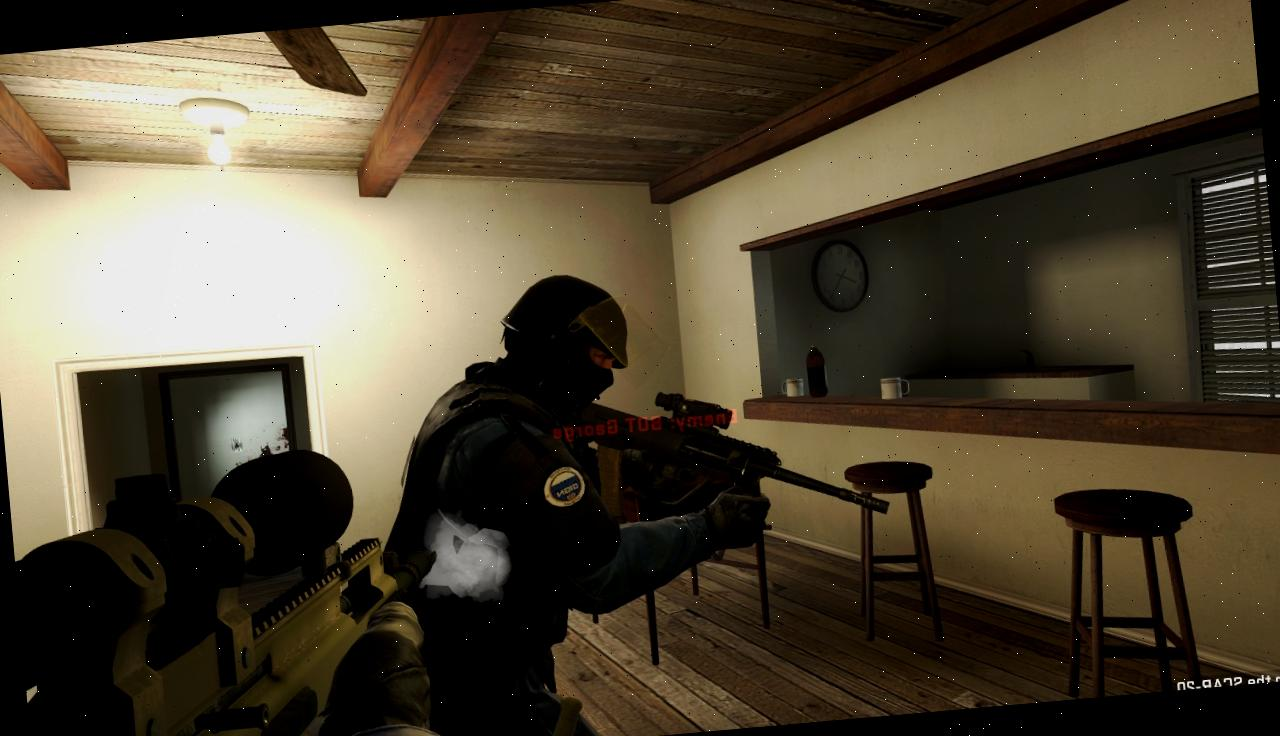ct: (376, 270, 661, 736)
cthead: (502, 274, 625, 392)
sniper: (7, 440, 418, 736)
